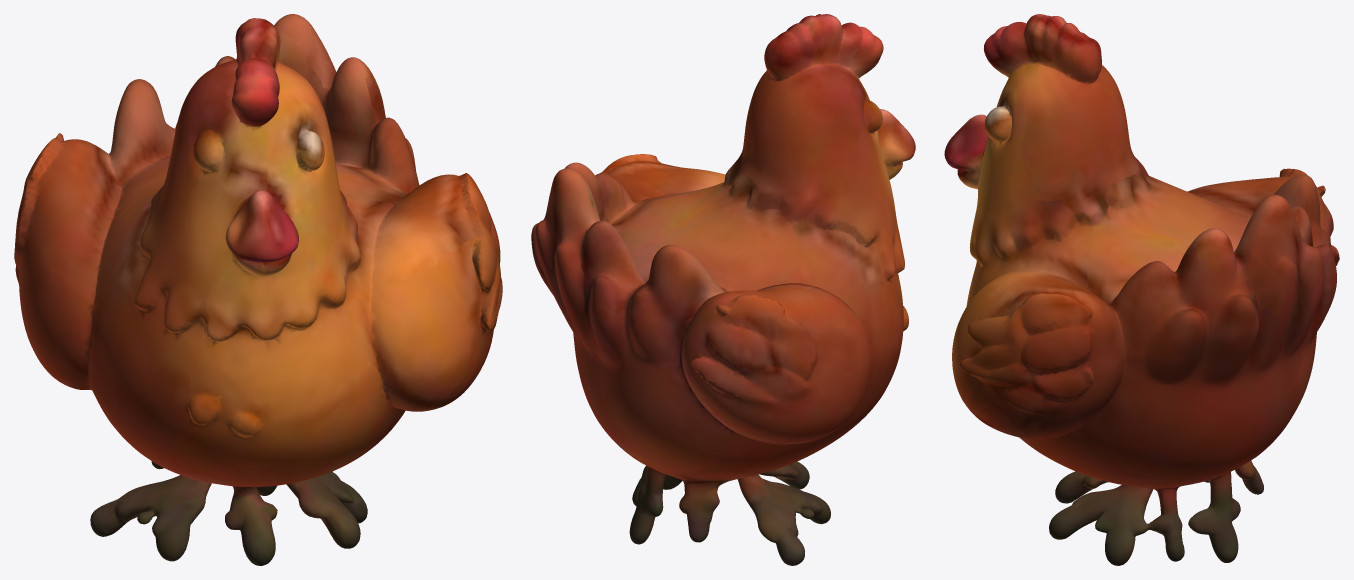
The model's file is ga-trong.glb.
3 views of the same model, side by side, from view 1: azimuth 30°, elevation 25°; view 2: azimuth 150°, elevation 25°; view 3: azimuth 270°, elevation 25° (orthographic). The views are drawn at different scales.
Bounding box in the file's own units: 0.0745 × 0.107 × 0.0766.
Materials: 1 (1 with a texture image).
